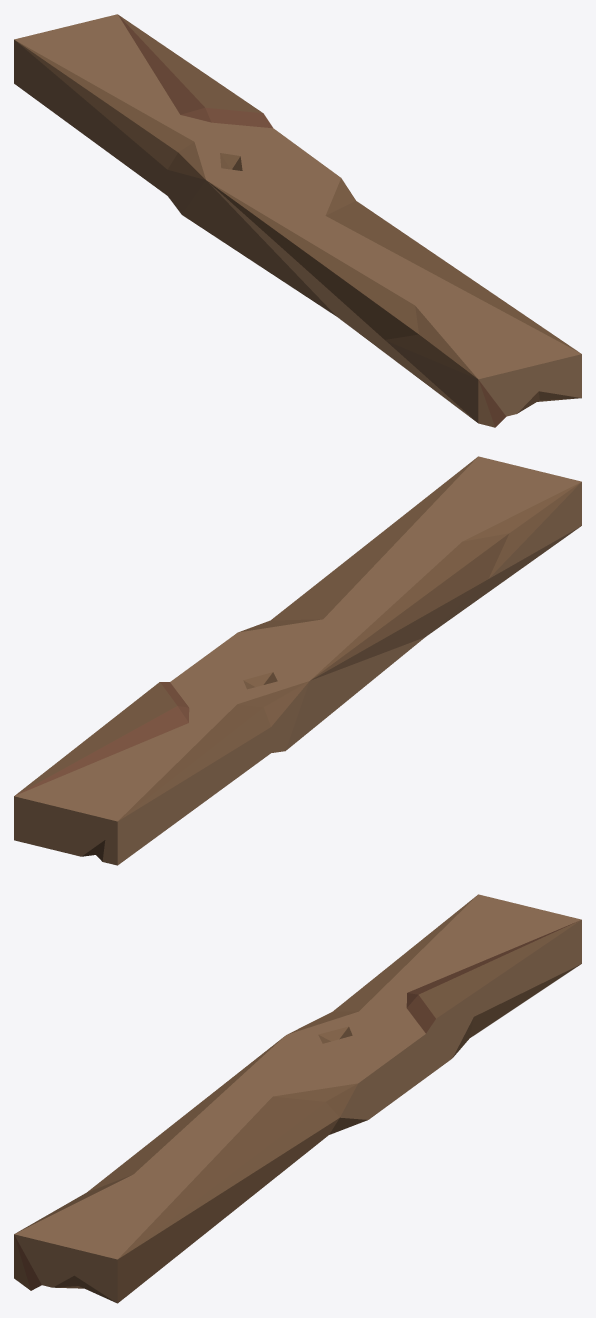
File: mesh_plank_03.fbx
The picture shows the model from 3 angles, top to bottom: view 1: azimuth 30°, elevation 25°; view 2: azimuth 150°, elevation 25°; view 3: azimuth 330°, elevation 25°; orthographic projection.
Visible parts, largest first — view 1: mesh_plank_03; view 2: mesh_plank_03; view 3: mesh_plank_03.
Part boxes in pixels (left/top/right/bottom): mesh_plank_03: left=14, top=14, right=581, bottom=427; mesh_plank_03: left=14, top=456, right=581, bottom=865; mesh_plank_03: left=14, top=894, right=581, bottom=1303.
Bounding box in the file's own units: 0.1316 × 0.0731 × 1.02.
